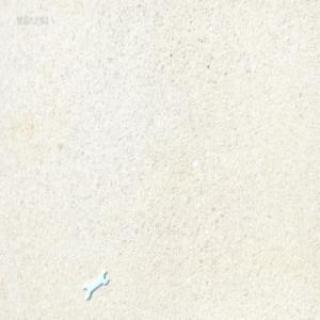Wrenchtrack_idkeyframe: (82, 269, 108, 299)
